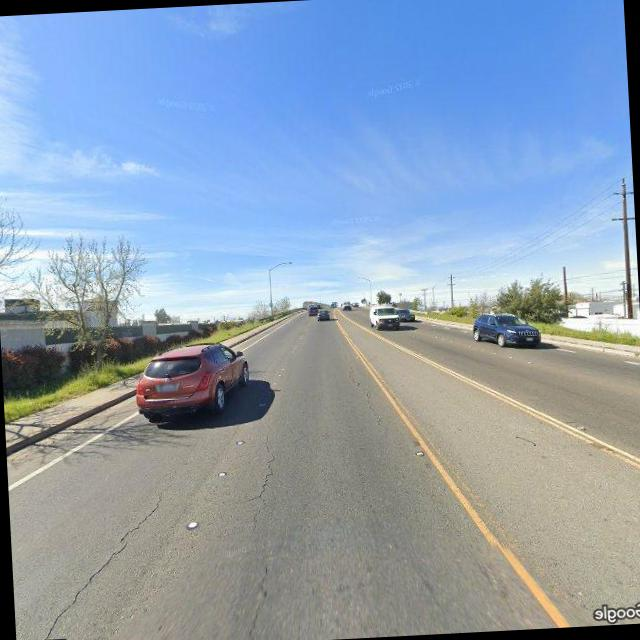crack: (38, 488, 177, 636), (243, 436, 284, 531), (237, 555, 279, 640), (346, 358, 388, 432)
